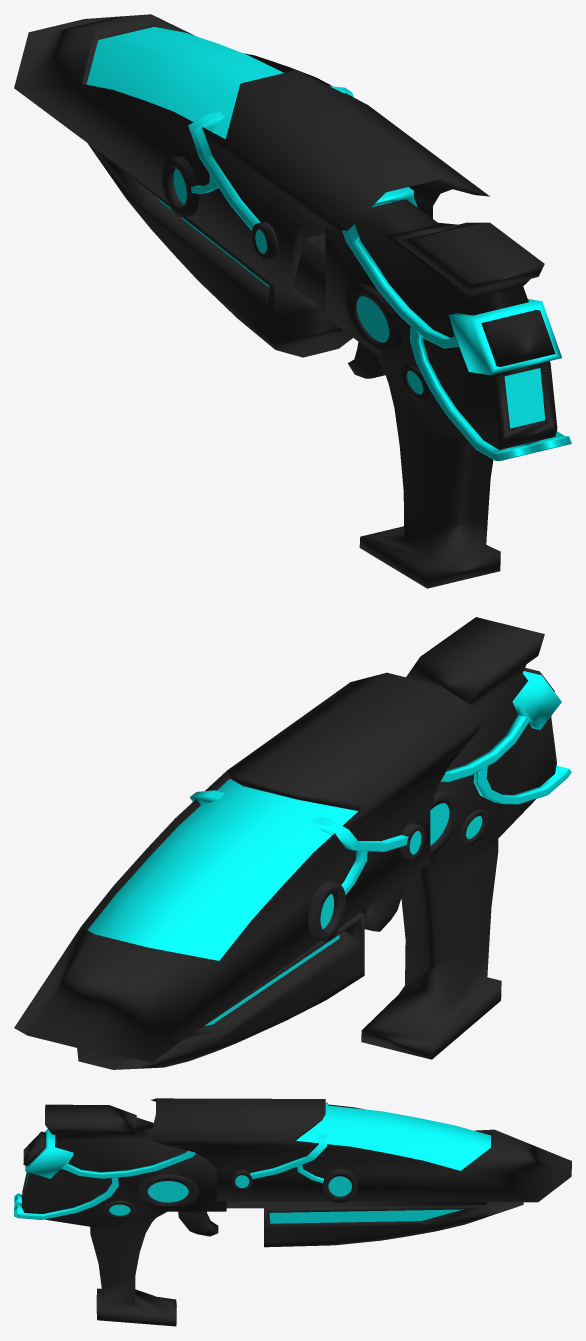
Rendered from Laser.fbx.
3 views of the same model, one above another, from view 1: azimuth 30°, elevation 25°; view 2: azimuth 150°, elevation 25°; view 3: azimuth 270°, elevation 25° (orthographic). The views are drawn at different scales.
Visible parts, largest first — view 1: Cube, Cube.006, Cube.007, Cube.004, Cube.008, Cube.001, Cube.009, Cube.002; view 2: Cube.006, Cube, Cube.007, Cube.004, Cube.008, Cube.009, Cube.002, Cube.005; view 3: Cube.006, Cube, Cube.007, Cube.004, Cube.008, Cube.005, Cube.002, Cube.009, Cube.011.
Boxes of the visible parts, x1,y1,x2,y2 form: Cube: (293, 199, 557, 588); Cube.006: (14, 14, 489, 294); Cube.007: (86, 26, 353, 230); Cube.004: (87, 143, 352, 357); Cube.008: (342, 187, 571, 460); Cube.001: (504, 368, 545, 428); Cube.009: (161, 155, 199, 217); Cube.002: (348, 342, 385, 378); Cube.006: (14, 672, 488, 1062); Cube: (361, 617, 556, 1059); Cube.007: (88, 779, 408, 960); Cube.004: (77, 912, 364, 1069); Cube.008: (430, 671, 571, 845); Cube.009: (308, 881, 345, 941); Cube.002: (361, 879, 406, 931); Cube.005: (205, 934, 339, 1025); Cube.006: (149, 1098, 571, 1202); Cube: (22, 1104, 487, 1326); Cube.007: (250, 1102, 491, 1183); Cube.004: (264, 1202, 523, 1247); Cube.008: (14, 1129, 195, 1219); Cube.005: (269, 1209, 463, 1223); Cube.002: (178, 1211, 218, 1236); Cube.009: (322, 1169, 357, 1202); Cube.011: (328, 1176, 351, 1196).
Size of the model in its own units: 59.61 by 131 by 316.
